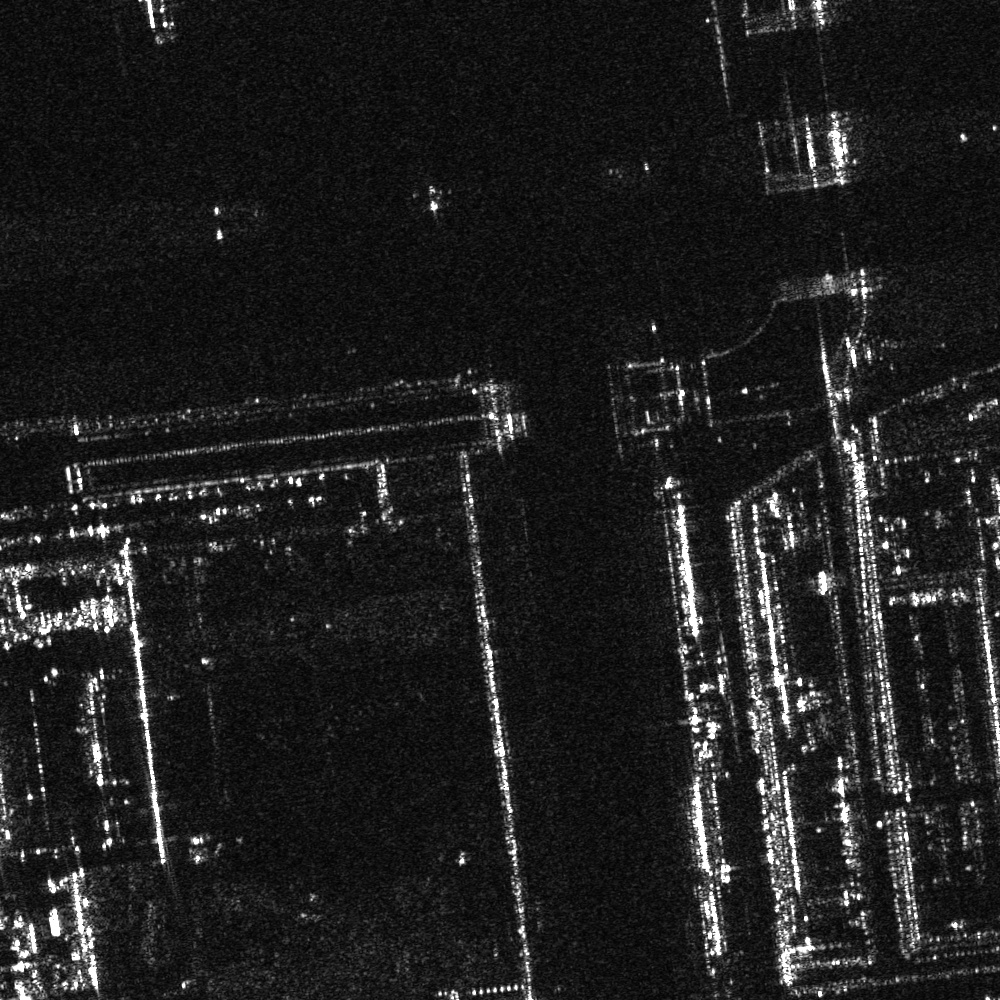A330: (410, 179, 453, 215)
